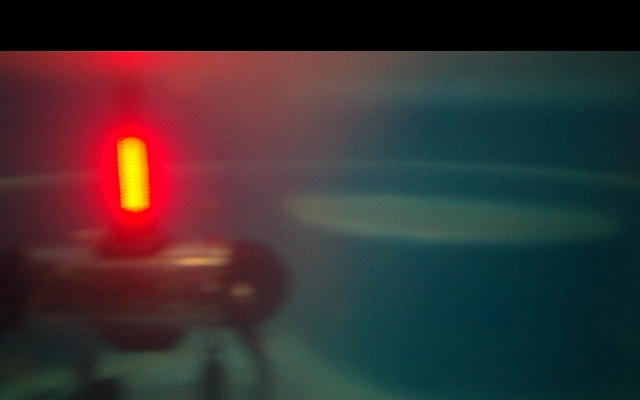red: (118, 137, 150, 213)
